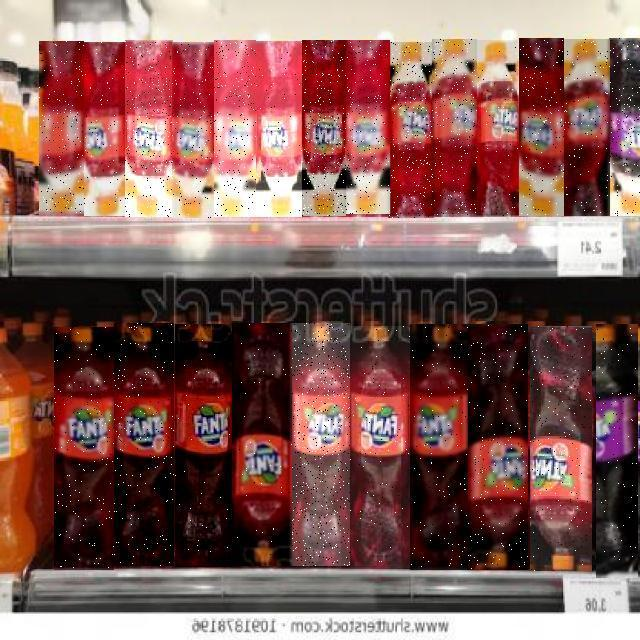Drinks: (530, 326, 592, 571), (410, 324, 470, 570), (469, 324, 529, 570), (290, 323, 350, 566), (55, 327, 115, 570), (114, 323, 174, 566), (233, 323, 293, 566), (350, 326, 410, 568), (175, 324, 234, 567), (596, 324, 638, 578), (125, 40, 173, 217), (564, 39, 610, 216), (388, 42, 434, 218), (256, 41, 302, 217), (519, 38, 564, 216), (344, 41, 390, 215), (432, 40, 477, 216), (39, 42, 84, 216), (302, 41, 346, 217), (215, 40, 257, 217), (172, 42, 214, 218), (476, 41, 518, 217), (84, 42, 125, 216), (609, 38, 640, 216)
